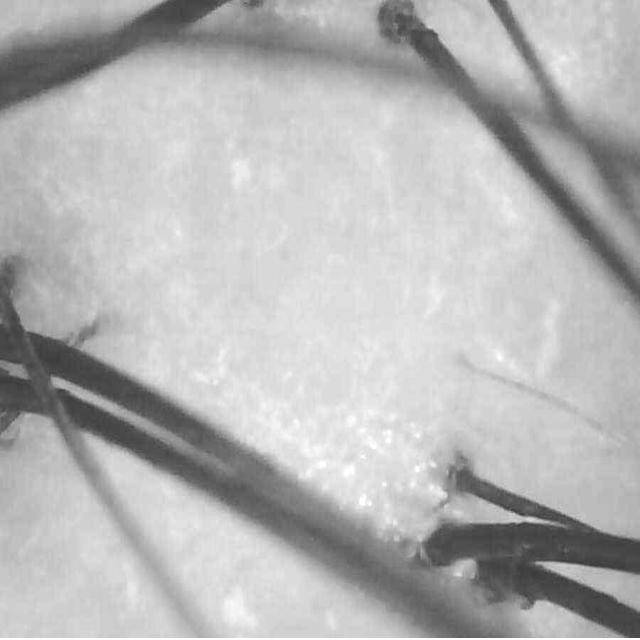o: (322, 408, 445, 537)
